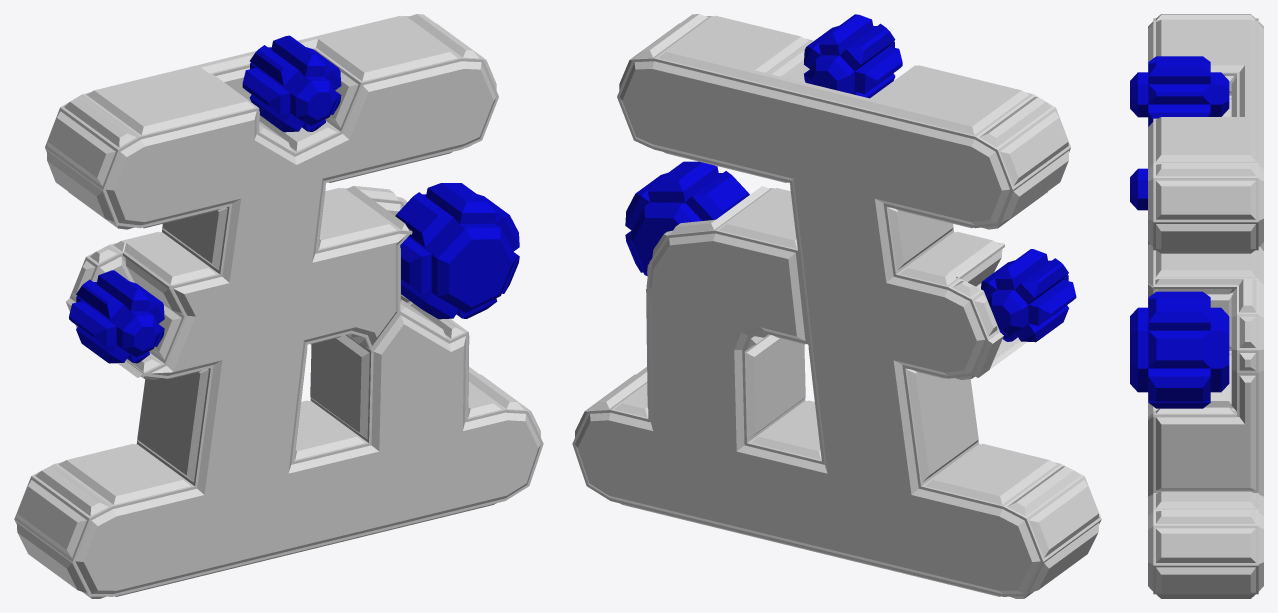
The model's file is Ch_China_五_01.fbx.
3 views of the same model, side by side, from view 1: azimuth 30°, elevation 25°; view 2: azimuth 150°, elevation 25°; view 3: azimuth 270°, elevation 25° (orthographic). The views are drawn at different scales.
Visible parts, largest first — view 1: sphere1; view 2: sphere1; view 3: sphere1.
Boxes of the visible parts, x1=… form: sphere1: x1=14, y1=14, x2=543, y2=598; sphere1: x1=572, y1=14, x2=1101, y2=598; sphere1: x1=1130, y1=14, x2=1263, y2=598.
Bounding box in the file's own units: 0.9405 × 0.9413 × 0.2541.
